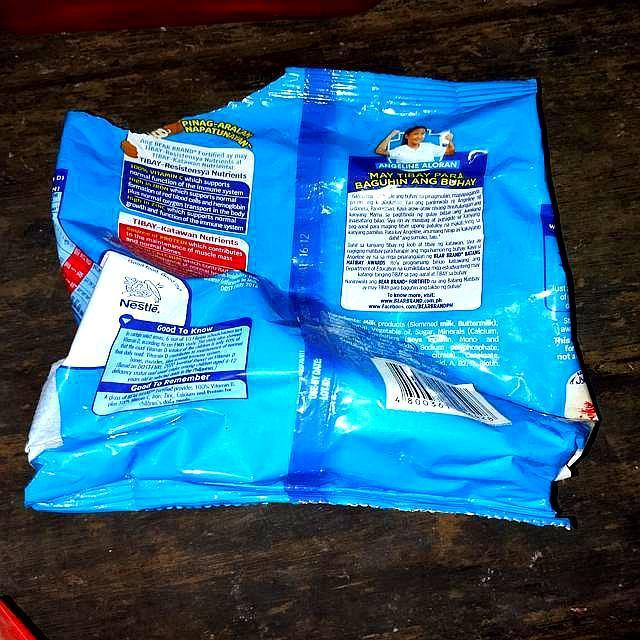Non-biodegradable: (23, 61, 591, 537)
